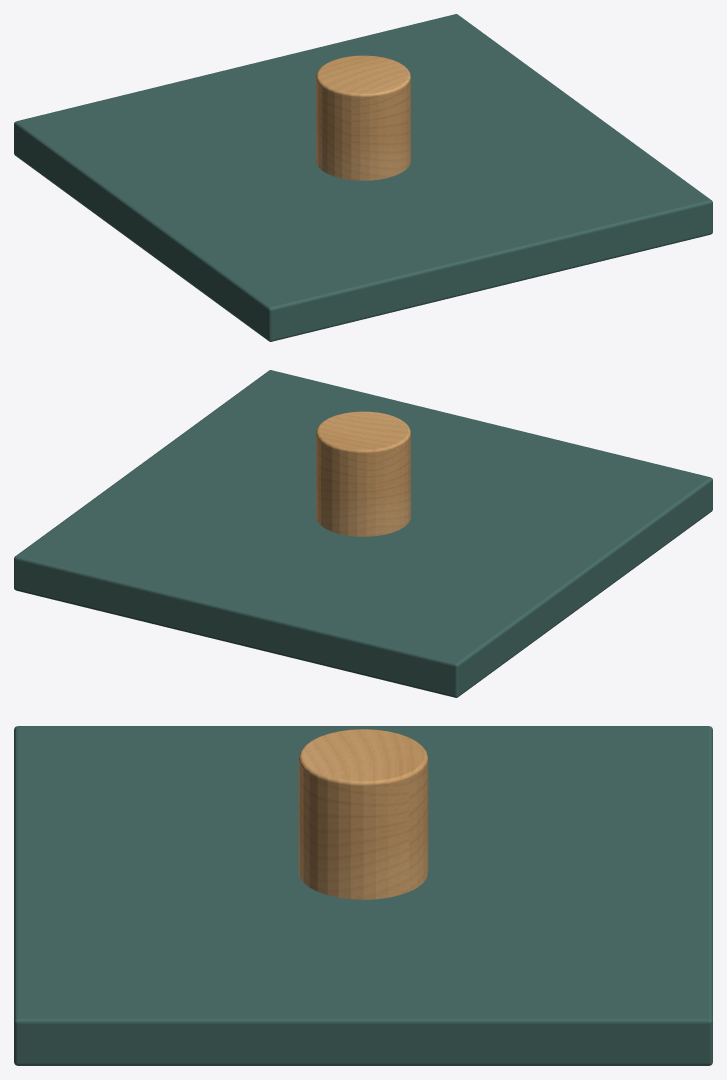
The model's file is springBase.glb.
3 views of the same model, one above another, from view 1: azimuth 30°, elevation 25°; view 2: azimuth 150°, elevation 25°; view 3: azimuth 270°, elevation 25° (orthographic). The views are drawn at different scales.
Visible parts, largest first — view 1: springBase; view 2: springBase; view 3: springBase.
Boxes of the visible parts, x1,y1,x2,y2 form: springBase: [14, 14, 712, 341]; springBase: [14, 370, 712, 697]; springBase: [14, 726, 712, 1065].
Bounding box in the file's own units: 0.054 × 0.014 × 0.054.
2 materials, 1 textured.
